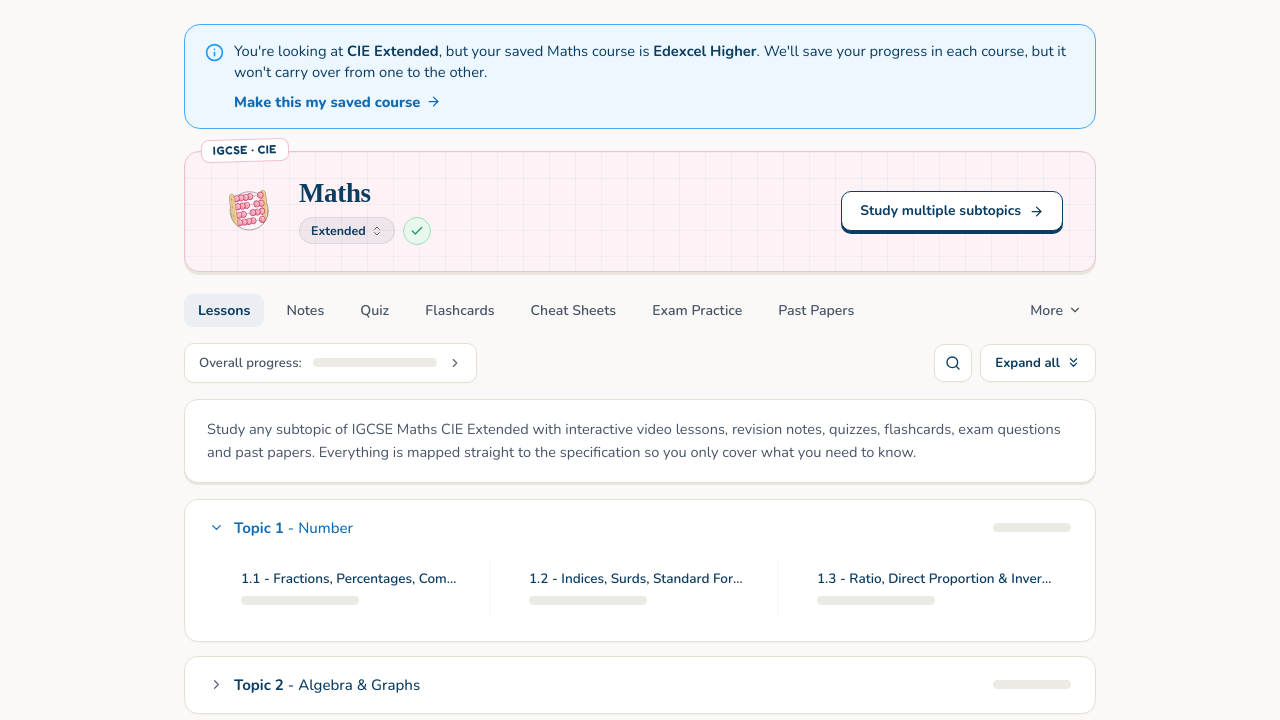
Scenario: Distinct Cognito Lessons vs Notes Experiences › routes Lessons tab subtopics to /lesson/:subtopicId and Notes tab subtopics to /notes/:subtopicId on IGCSE Maths & IGCSE Biology
Later steps or results of the test are not shown.
Expected: the 1st link with class "workspace-subtopic-cell" is shown, [231, 560, 468, 615]
Click the tab "Notes" at (305, 310), box [272, 294, 338, 327]
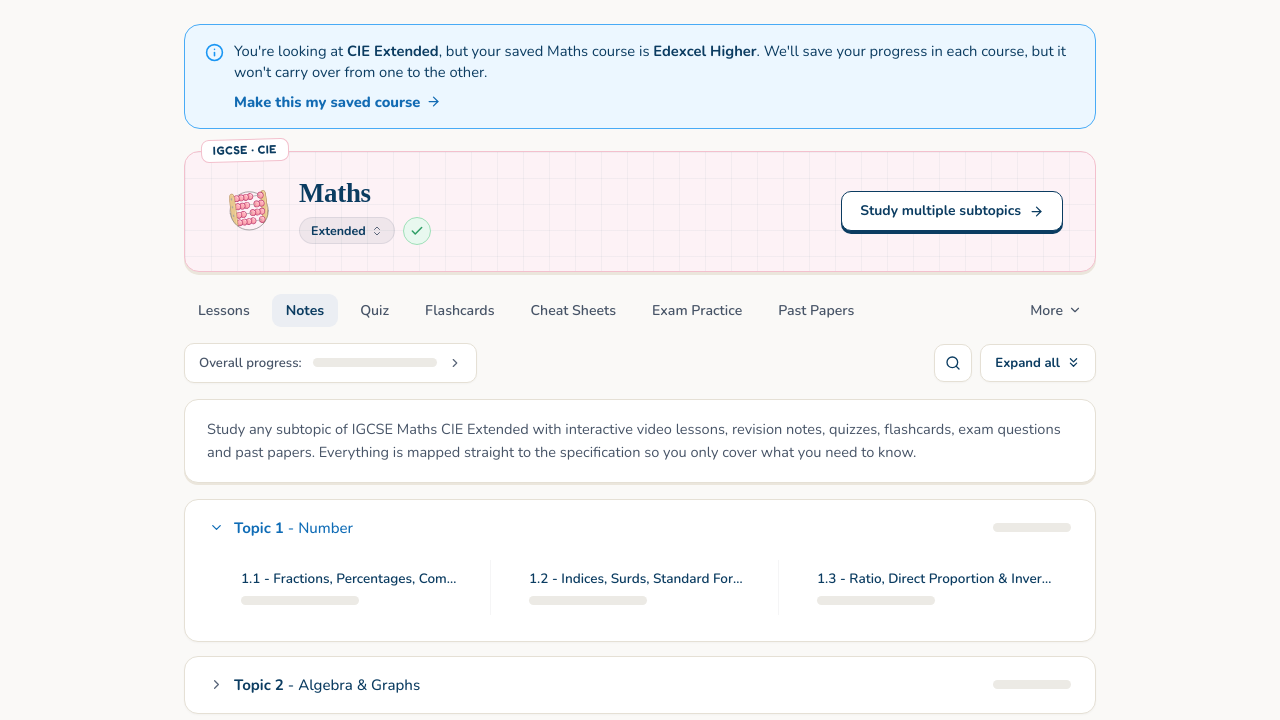
Result: the tab "Notes" is selected at [272, 294, 338, 327]
